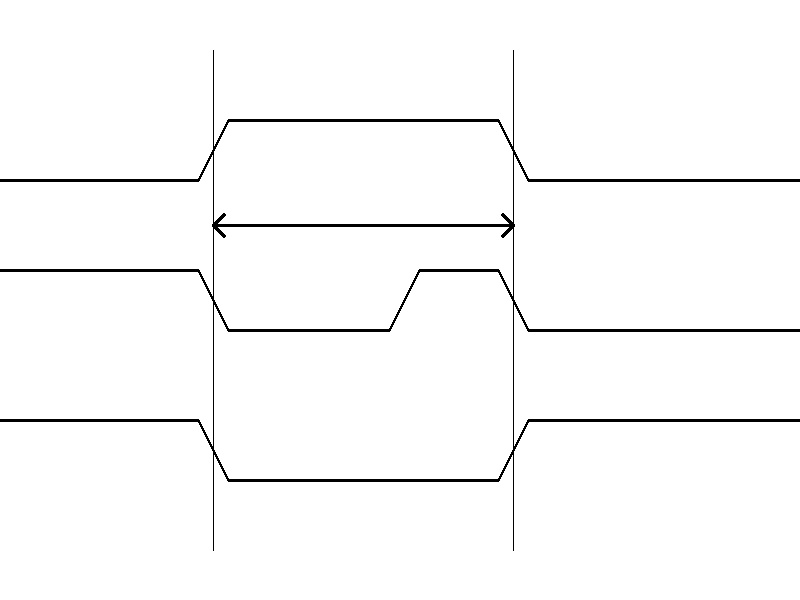double_arrow: (213, 210, 513, 240)
